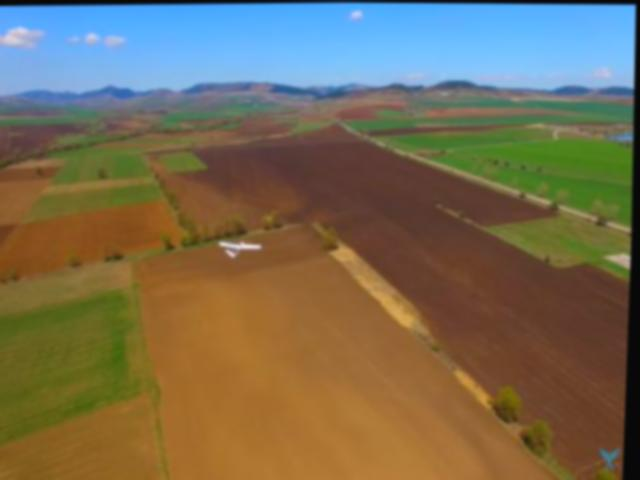uav: (215, 233, 269, 264)
